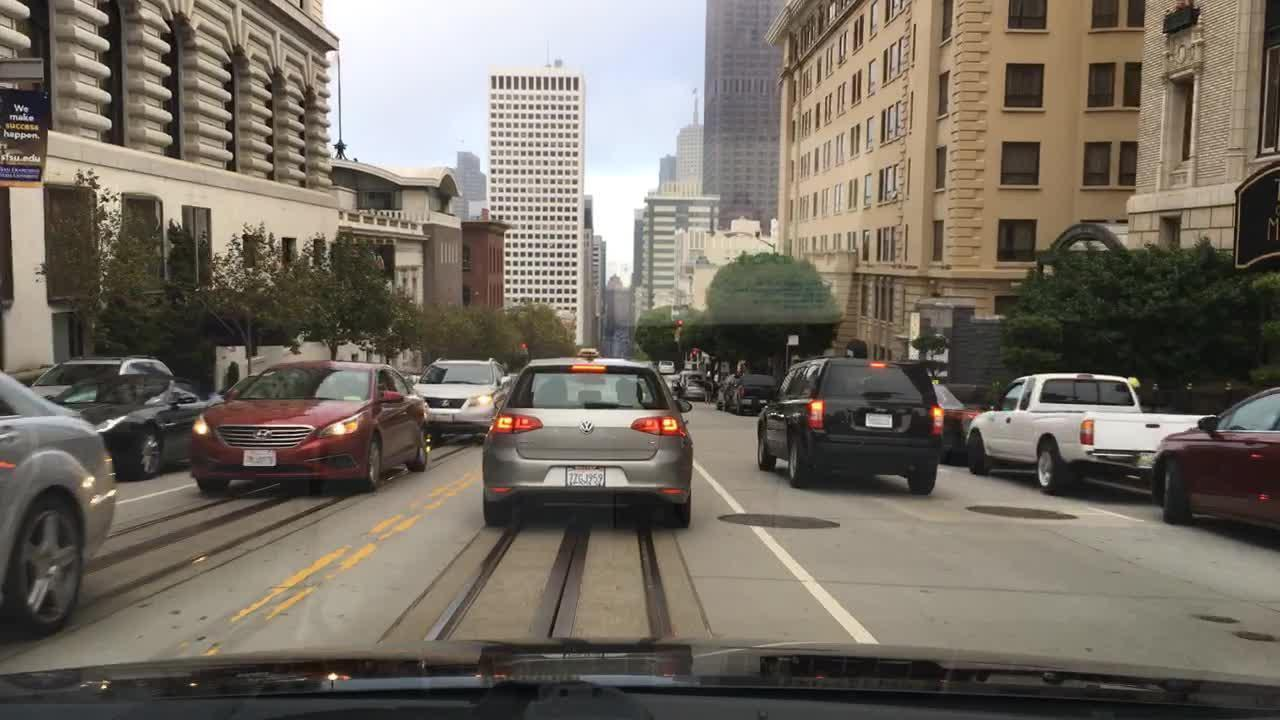Hyundai: (252, 428, 276, 443)
Volkswagen: (569, 411, 603, 441)
